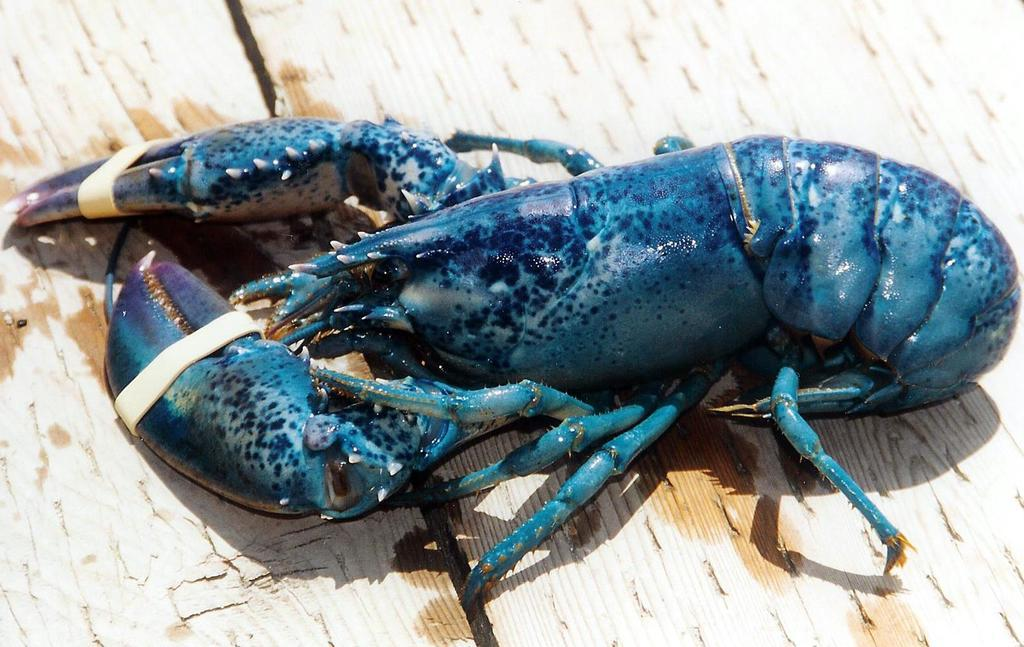Lobster: (6, 107, 1020, 610)
